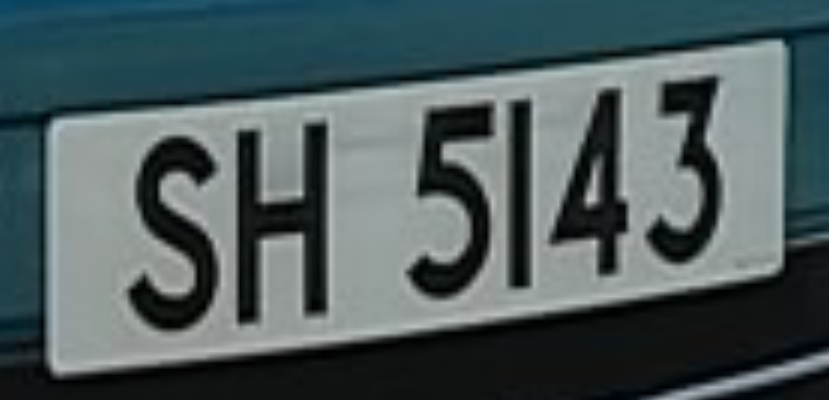1: (489, 75, 551, 305)
3: (637, 51, 740, 289)
4: (542, 61, 640, 295)
5: (392, 81, 502, 314)
H: (218, 105, 351, 342)
S: (119, 115, 230, 349)
